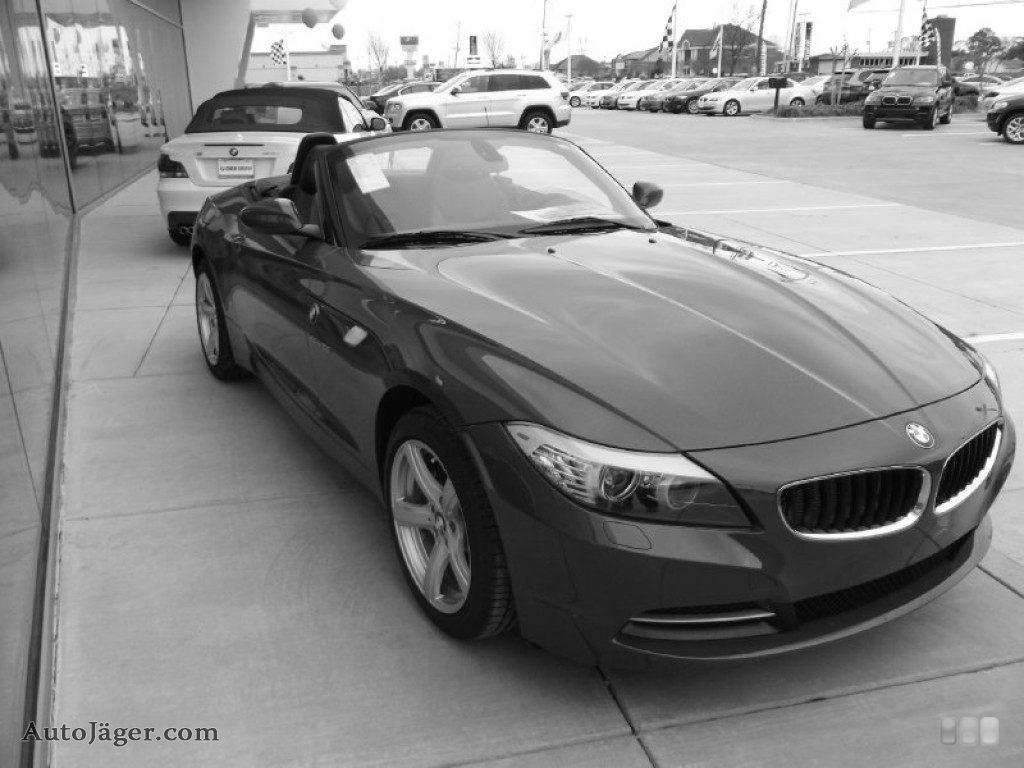car: (185, 132, 1015, 677)
